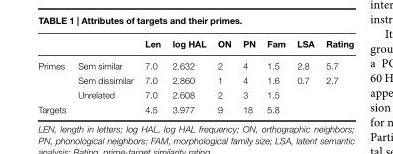table: (37, 37, 353, 114)
table column: (71, 37, 138, 114), (165, 37, 211, 114), (37, 37, 71, 114), (319, 37, 353, 114), (260, 37, 290, 114), (290, 37, 319, 114), (138, 37, 165, 114), (211, 37, 236, 114), (236, 37, 260, 114)
table column header: (37, 37, 353, 54)
table row: (37, 54, 353, 72), (37, 37, 353, 54), (37, 86, 353, 101), (37, 72, 353, 86), (37, 101, 353, 114)
table spanning cell: (37, 54, 71, 101)
